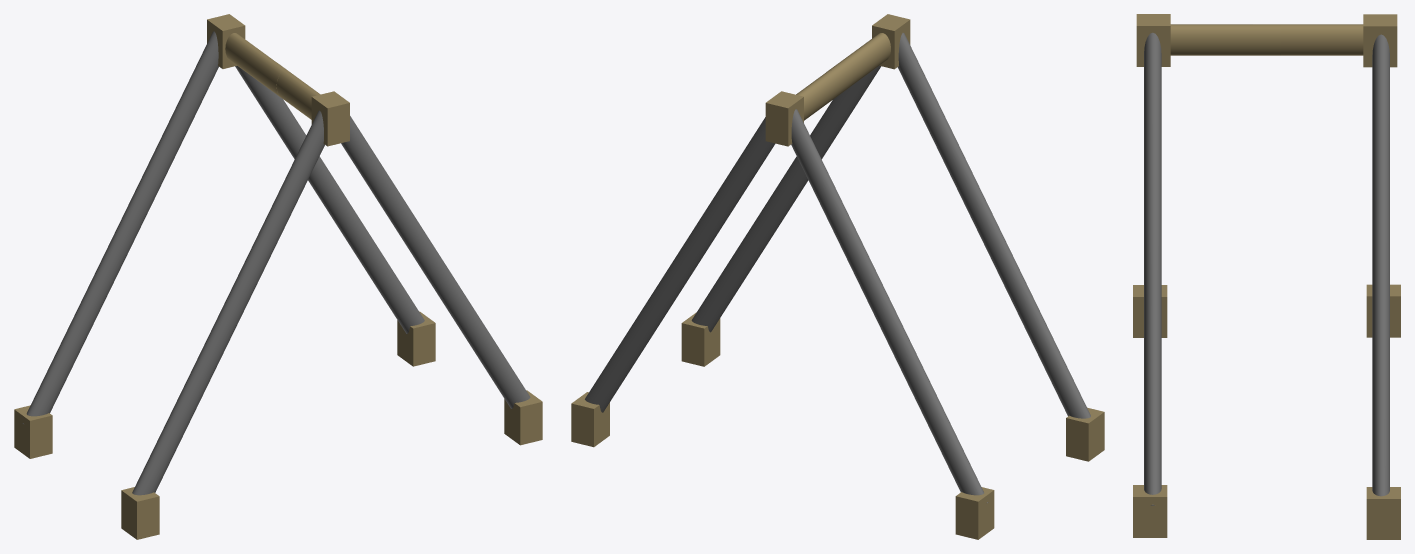
Rendered from suportebarco.obj.
3 views of the same model, side by side, from view 1: azimuth 30°, elevation 25°; view 2: azimuth 150°, elevation 25°; view 3: azimuth 270°, elevation 25° (orthographic). The views are drawn at different scales.
Visible parts, largest first — view 1: pCube6; view 2: pCube6; view 3: pCube6.
Part boxes in pixels (box(x1,y1,x2,y2)): pCube6: box(14, 14, 542, 539); pCube6: box(571, 14, 1104, 539); pCube6: box(1133, 14, 1400, 539).
Bounding box in the file's own units: 2.22 × 2 × 1.17.
Materials: 1 (1 with a texture image).
